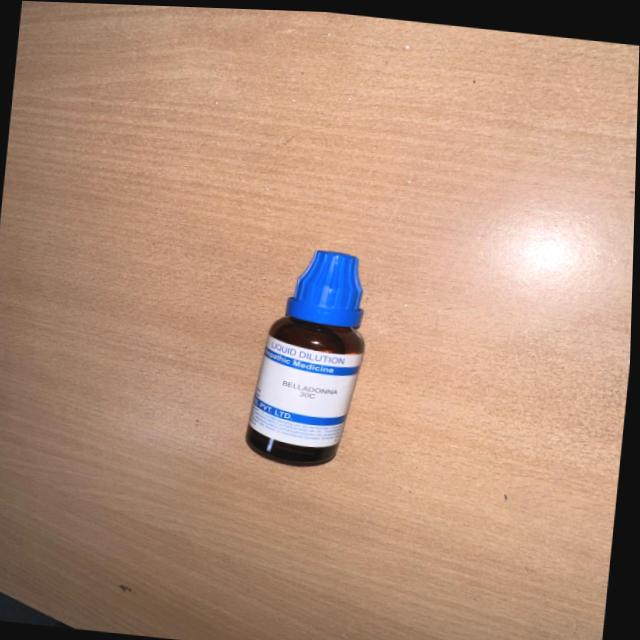medicine: (225, 241, 402, 471)
